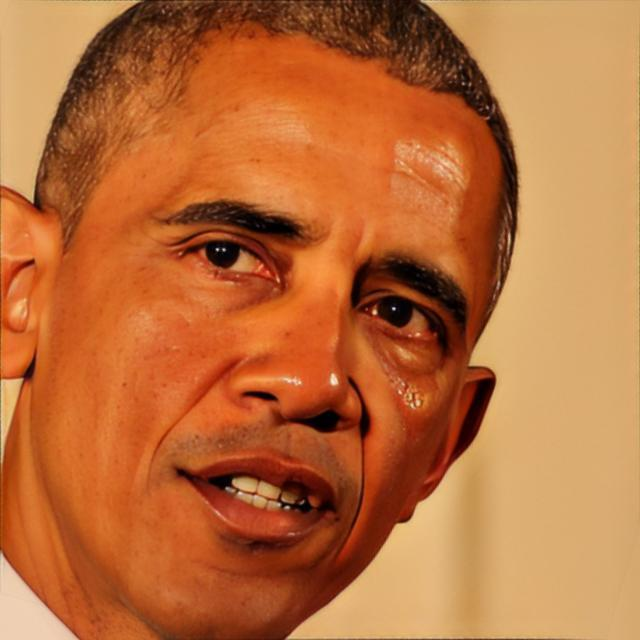anger: (44, 53, 487, 640)
